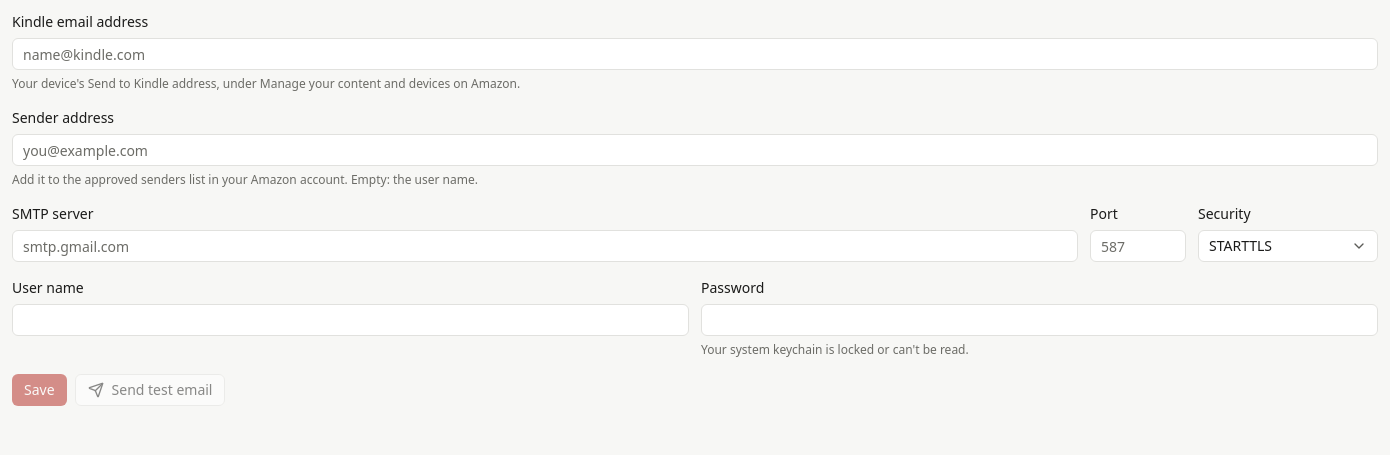
it: a locked keychain and window focus › fails a save into a locked keychain, keeping the typed password
Expected: the text "Your system keychain is locked or can't be read." is shown, [701,341,969,358]
Type "new-secret" into the password field labelled "Password" at (1040, 320), box [701,304,1378,336]
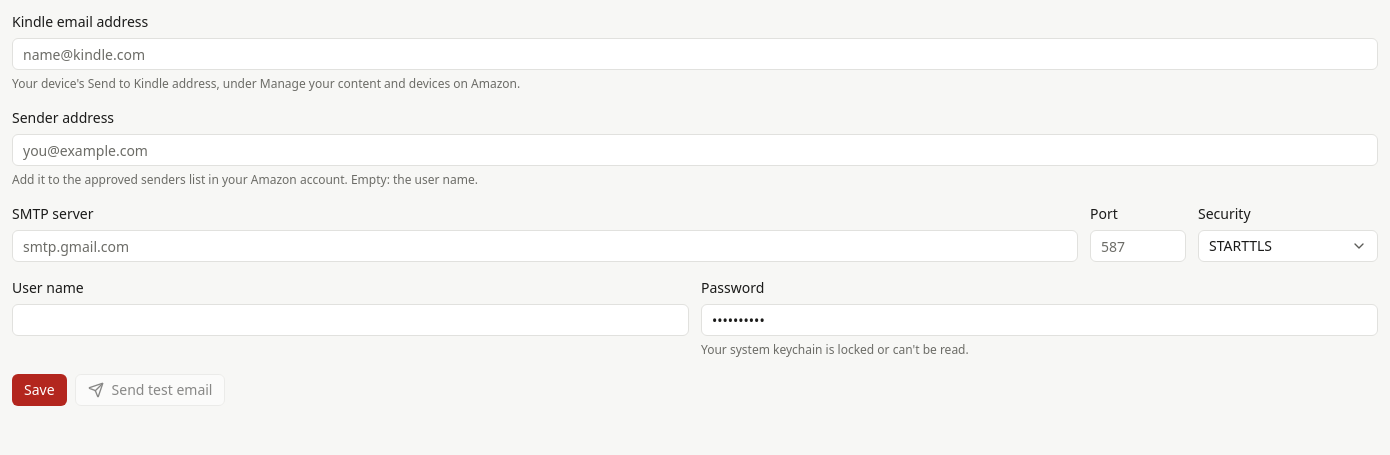
Click the button "Save" at (39, 390), box [12,374,67,406]
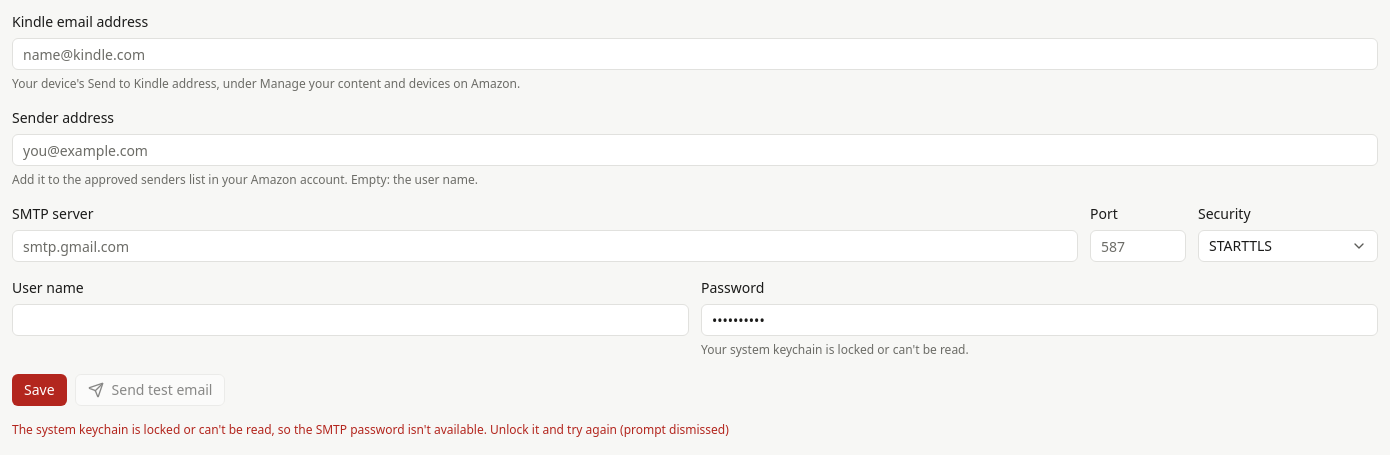
Expected: the text "The system keychain is locked or can't be read, so the SMTP password isn't available. Unlock it and try again (prompt di" is shown, [12,421,729,438]
